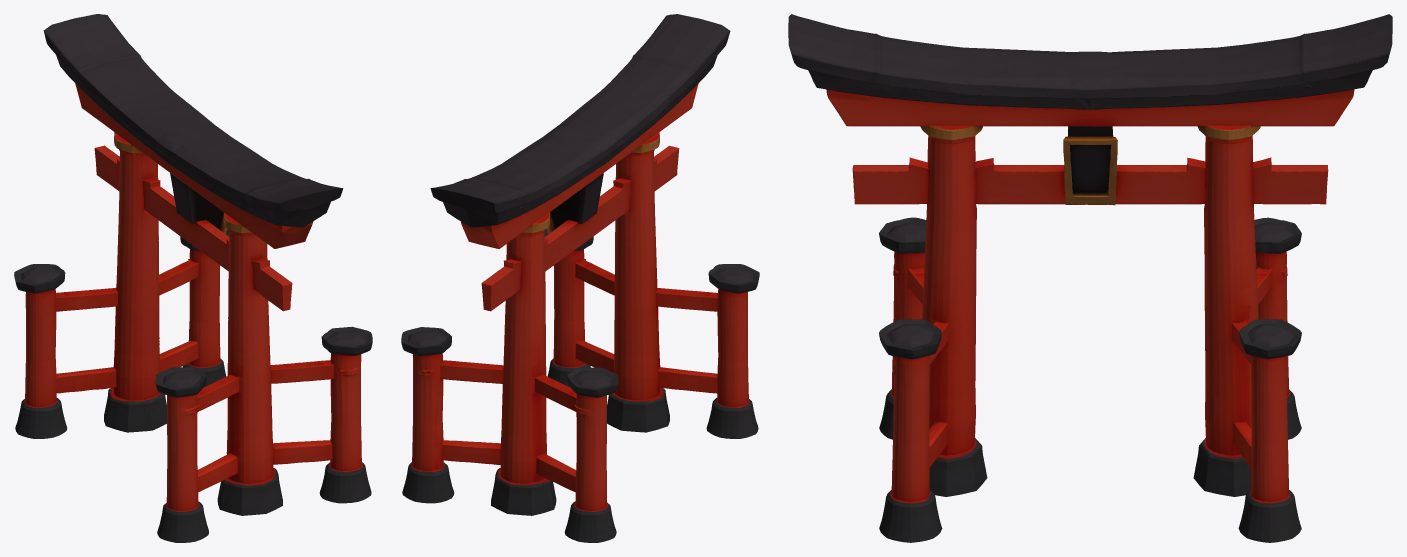
The model's file is model_1639c06a-ae8d-493b-bec6-a16d0975c1e1_draco.glb.
3 views of the same model, side by side, from view 1: azimuth 30°, elevation 25°; view 2: azimuth 150°, elevation 25°; view 3: azimuth 270°, elevation 25° (orthographic). The views are drawn at different scales.
Visible parts, largest first — view 1: tripo_node_1639c06a-ae8d-493b-bec6-a16d0975c1e1; view 2: tripo_node_1639c06a-ae8d-493b-bec6-a16d0975c1e1; view 3: tripo_node_1639c06a-ae8d-493b-bec6-a16d0975c1e1.
Boxes of the visible parts, x1,y1,x2,y2 form: tripo_node_1639c06a-ae8d-493b-bec6-a16d0975c1e1: [14, 14, 372, 542]; tripo_node_1639c06a-ae8d-493b-bec6-a16d0975c1e1: [401, 14, 759, 542]; tripo_node_1639c06a-ae8d-493b-bec6-a16d0975c1e1: [788, 14, 1392, 542].
Bounding box in the file's own units: 0.5169 × 0.8166 × 0.9958.
Materials: 1 (1 with a texture image).
